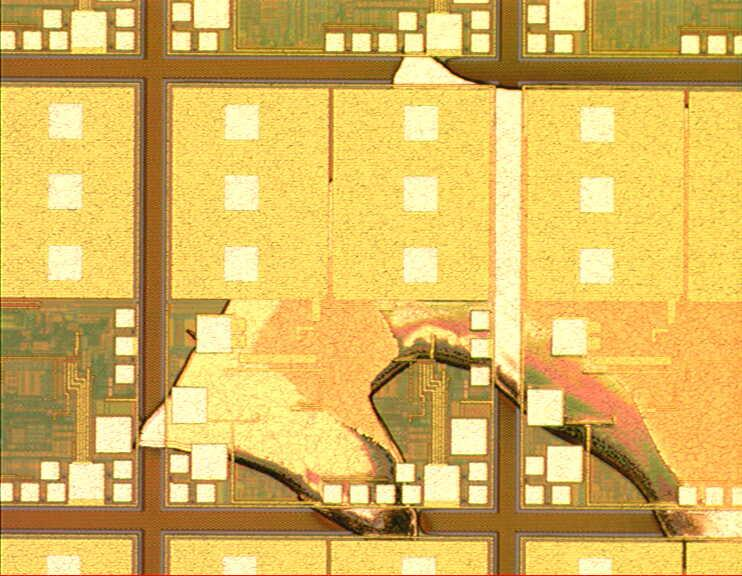BLOCK ETCH: (123, 45, 742, 557)
